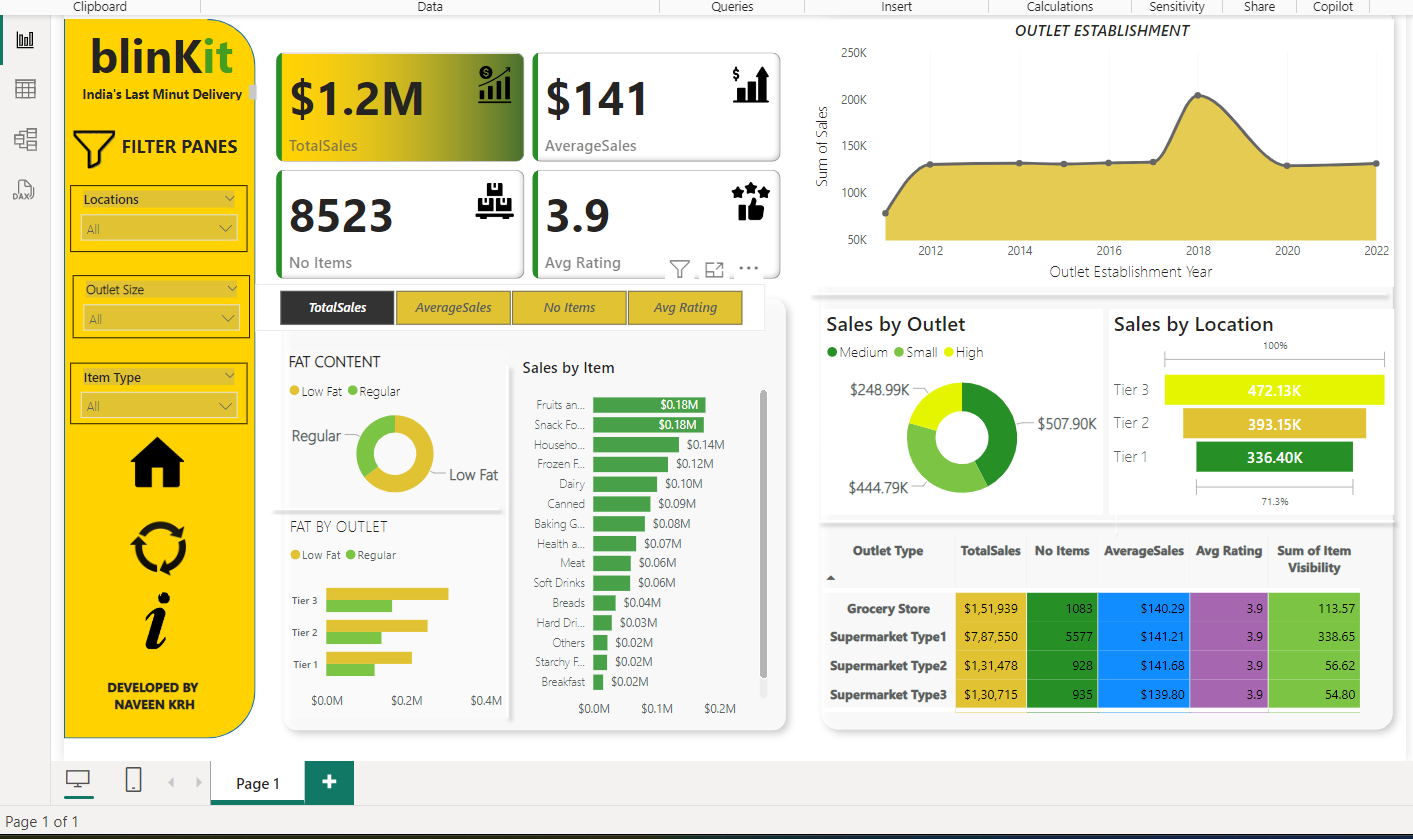

What the dashboard file says about the page in this screenshot:
{"tool":"powerbi","page":{"name":"Page 1","canvas":[1400,800],"ordinal":0},"visuals":[{"type":"shape","box":[0,25.5,199.6,750.4],"z":0},{"type":"textbox","box":[9,25.5,184.6,90.1],"z":1000},{"type":"textbox","box":[6.7,89.8,199.7,25.5],"z":2000},{"type":"shape","box":[216.1,304.7,549.3,475.8],"z":3000},{"type":"cardVisual","fields":{"Data":["BlinkIT Grocery Data.TotalSales","BlinkIT Grocery Data.AverageSales","BlinkIT Grocery Data.No Items","BlinkIT Grocery Data.Avg Rating"]},"box":[215.8,56.3,536.2,248],"z":4000},{"type":"donutChart","title":"FAT CONTENT","fields":{"Y":["BlinkIT Grocery Data.TotalSales"],"Category":["BlinkIT Grocery Data.Item Fat Content"]},"box":[229.2,371.3,231.9,164.9],"z":5000},{"type":"clusteredBarChart","title":"FAT BY OUTLET","fields":{"Y":["BlinkIT Grocery Data.TotalSales"],"Series":["BlinkIT Grocery Data.Item Fat Content"],"Category":["BlinkIT Grocery Data.Outlet Location Type"]},"box":[231.1,543.3,231.1,211.6],"z":6000},{"type":"shape","box":[205.6,528.3,256.6,15],"z":7000},{"type":"shape","box":[451.8,378.2,22.5,385.7],"z":8000},{"type":"barChart","title":"Sales by Item","fields":{"Y":["BlinkIT Grocery Data.TotalSales"],"Category":["BlinkIT Grocery Data.Item Type"]},"box":[472.8,378.2,265.7,385.7],"z":9000},{"type":"shape","box":[777.5,0,622,780.2],"z":10000},{"type":"lineChart","title":"OUTLET ESTABLISHMENT","fields":{"Category":["BlinkIT Grocery Data.Outlet Establishment Year"],"Y":["Sum(BlinkIT Grocery Data.Sales)"]},"box":[778.8,25.5,608.6,278.8],"z":11000},{"type":"donutChart","title":"Sales by Outlet","fields":{"Category":["BlinkIT Grocery Data.Outlet Size"],"Y":["BlinkIT Grocery Data.TotalSales"]},"box":[789.5,328.4,293.6,214.5],"z":12000},{"type":"shape","box":[768.1,298.9,619.3,28.2],"z":13000},{"type":"shape","box":[1088.5,327.1,10.7,244],"z":14000},{"type":"shape","box":[777.5,536.2,619.3,28.2],"z":15000},{"type":"slicer","fields":{"Values":["Metrics.Metrics"]},"box":[199.7,303,532.2,49.6],"z":16000},{"type":"funnel","title":"Sales by Location","fields":{"Category":["BlinkIT Grocery Data.Outlet Location Type"],"Y":["Sum(BlinkIT Grocery Data.Sales)"]},"box":[1089.8,328.4,297.6,214.5],"z":17000},{"type":"shape","box":[1076.4,313.7,13.4,257.4],"z":18000},{"type":"pivotTable","title":"OUTLET ESTABLISHMENT","fields":{"Rows":["BlinkIT Grocery Data.Outlet Type"],"Values":["BlinkIT Grocery Data.TotalSales","BlinkIT Grocery Data.No Items","BlinkIT Grocery Data.AverageSales","BlinkIT Grocery Data.Avg Rating","Sum(BlinkIT Grocery Data.Item Visibility)"]},"box":[789.5,564.3,597.9,190.3],"z":19000},{"type":"slicer","fields":{"Values":["BlinkIT Grocery Data.Outlet Size"]},"box":[9.4,293.6,185,65.7],"z":20000},{"type":"slicer","fields":{"Values":["BlinkIT Grocery Data.Item Type"]},"box":[6.7,384.7,185,64.3],"z":21000},{"type":"slicer","fields":{"Values":["BlinkIT Grocery Data.Outlet Location Type"]},"box":[6.7,199.7,185,69.7],"z":22000},{"type":"textbox","box":[48.3,115.3,146.1,154.2],"z":23000},{"type":"image","box":[0,56.3,63,213.1],"z":24000},{"type":"image","box":[48.3,449.1,99.2,79.1],"z":25000},{"type":"image","box":[25.5,542.9,143.4,72.4],"z":26000},{"type":"image","box":[36.2,615.3,122,77.7],"z":27000},{"type":"textbox","box":[0,709.1,185,71],"z":28000}]}

Visuals, with their boxes on the page's 1400x800 design canvas (x1, y1, x2, y2). These are canvas units, not pixel positions in the 1413x839 screenshot, which may show the page scaled, cropped or inside an application window:
shape: (0, 26, 200, 776)
textbox: (9, 26, 194, 116)
textbox: (7, 90, 206, 115)
shape: (216, 305, 765, 780)
cardVisual - BlinkIT Grocery Data.TotalSales x BlinkIT Grocery Data.AverageSales: (216, 56, 752, 304)
"FAT CONTENT" donutChart: (229, 371, 461, 536)
"FAT BY OUTLET" clusteredBarChart: (231, 543, 462, 755)
shape: (206, 528, 462, 543)
shape: (452, 378, 474, 764)
"Sales by Item" barChart: (473, 378, 738, 764)
shape: (778, 0, 1400, 780)
"OUTLET ESTABLISHMENT" lineChart: (779, 26, 1387, 304)
"Sales by Outlet" donutChart: (790, 328, 1083, 543)
shape: (768, 299, 1387, 327)
shape: (1088, 327, 1099, 571)
shape: (778, 536, 1397, 564)
slicer - Metrics.Metrics: (200, 303, 732, 353)
"Sales by Location" funnel: (1090, 328, 1387, 543)
shape: (1076, 314, 1090, 571)
"OUTLET ESTABLISHMENT" pivotTable: (790, 564, 1387, 755)
slicer - BlinkIT Grocery Data.Outlet Size: (9, 294, 194, 359)
slicer - BlinkIT Grocery Data.Item Type: (7, 385, 192, 449)
slicer - BlinkIT Grocery Data.Outlet Location Type: (7, 200, 192, 269)
textbox: (48, 115, 194, 270)
image: (0, 56, 63, 269)
image: (48, 449, 148, 528)
image: (26, 543, 169, 615)
image: (36, 615, 158, 693)
textbox: (0, 709, 185, 780)
